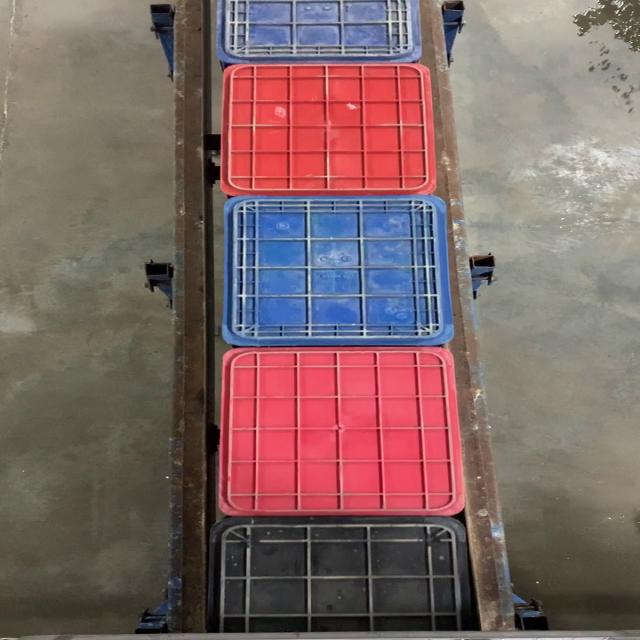Box: (218, 346, 465, 516), (217, 194, 458, 346), (216, 64, 442, 194)
